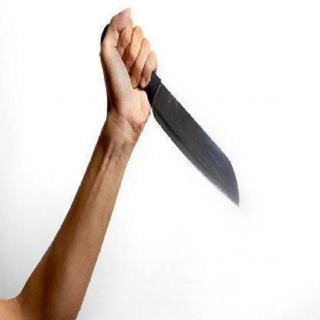knife: (121, 22, 243, 212)
